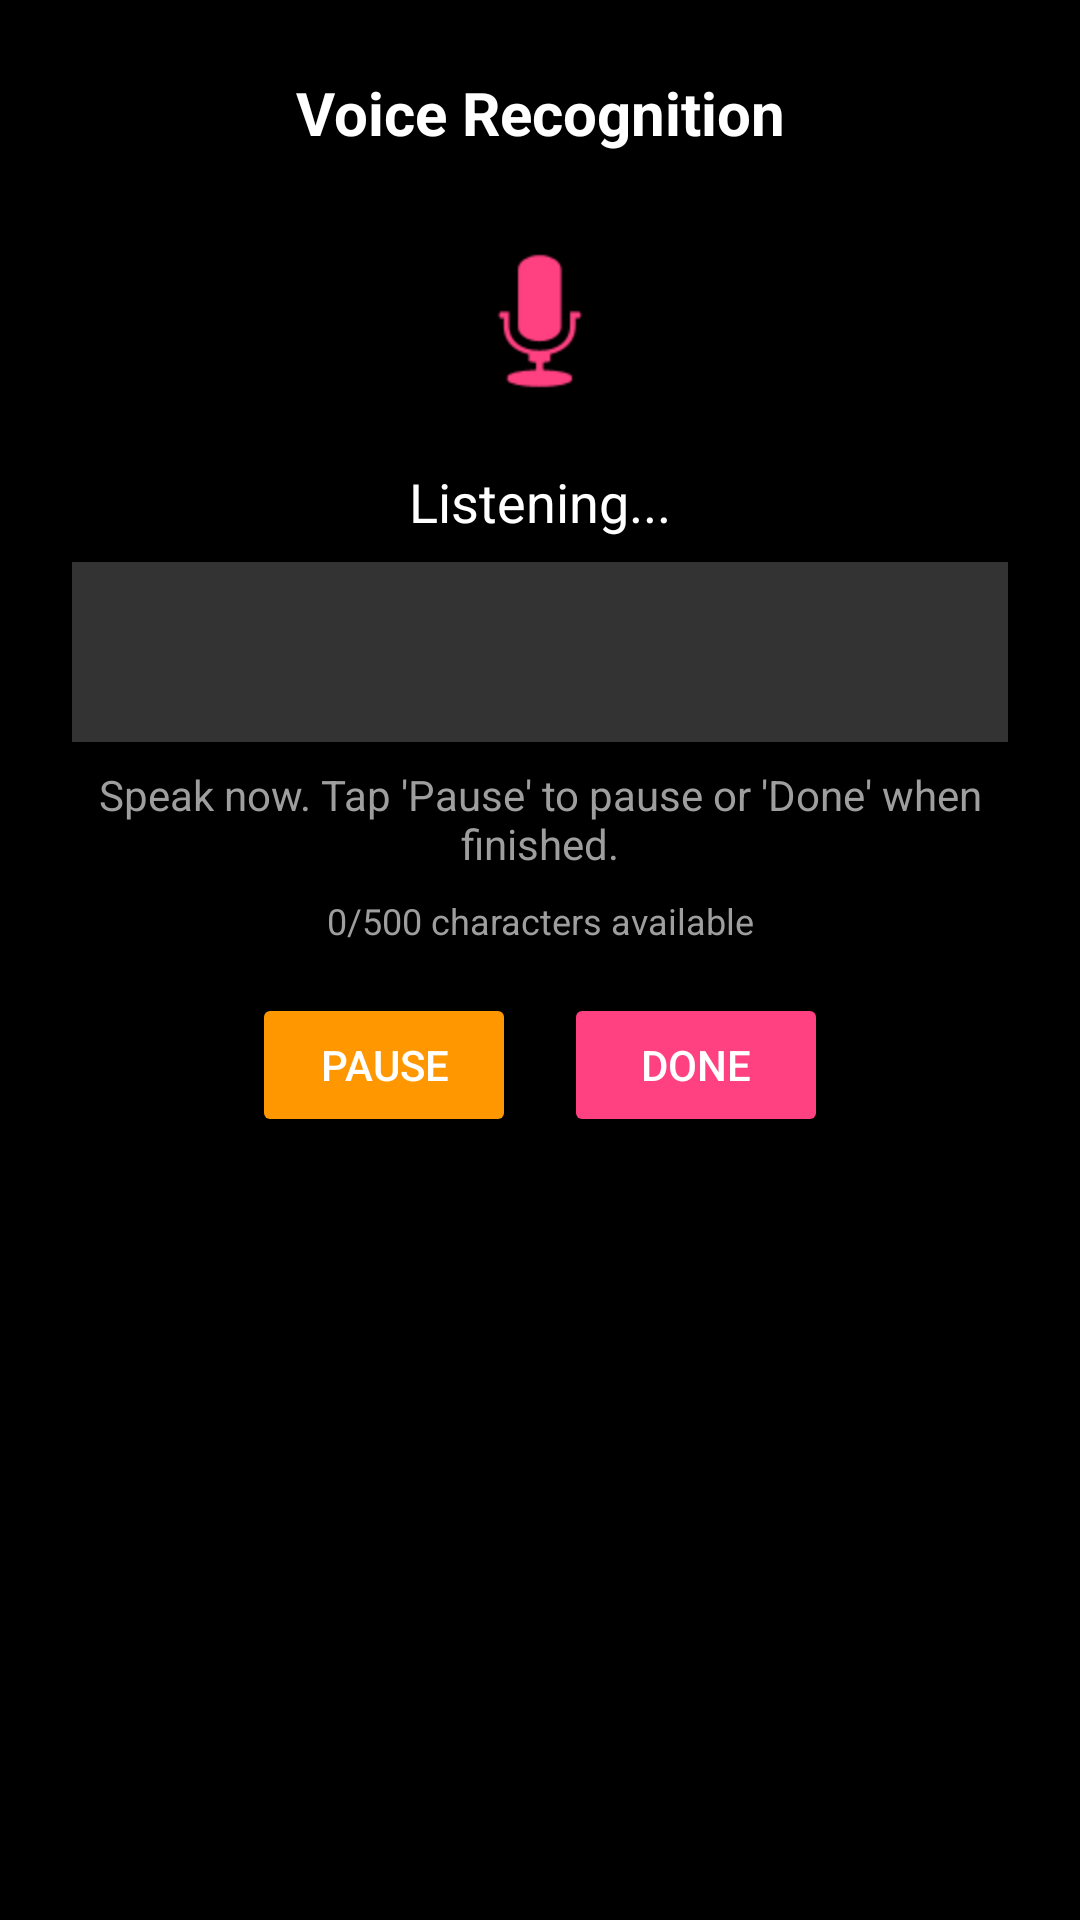

Icons on this 1080 x 1920 Android screen, each with the point to tap as [x,y]:
speak now: [540,321]
